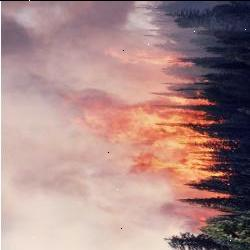fire: (65, 50, 238, 228)
